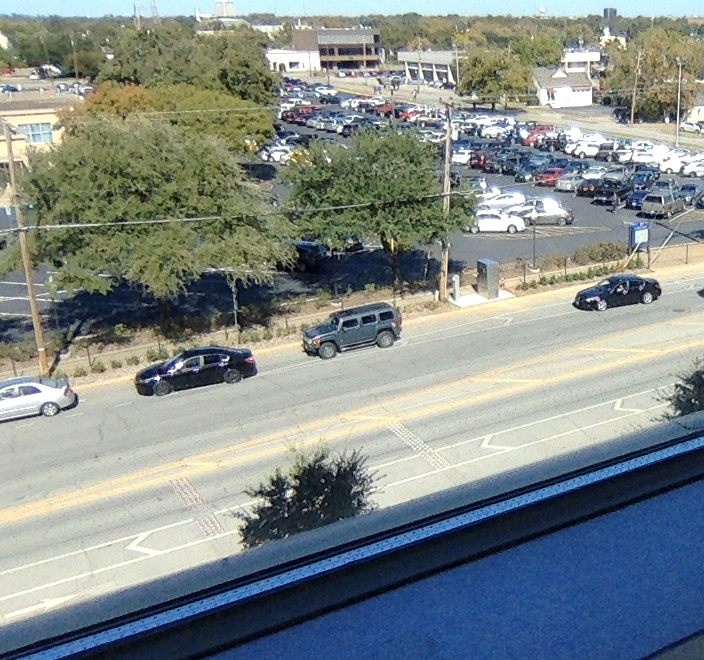car: (300, 300, 404, 360)
